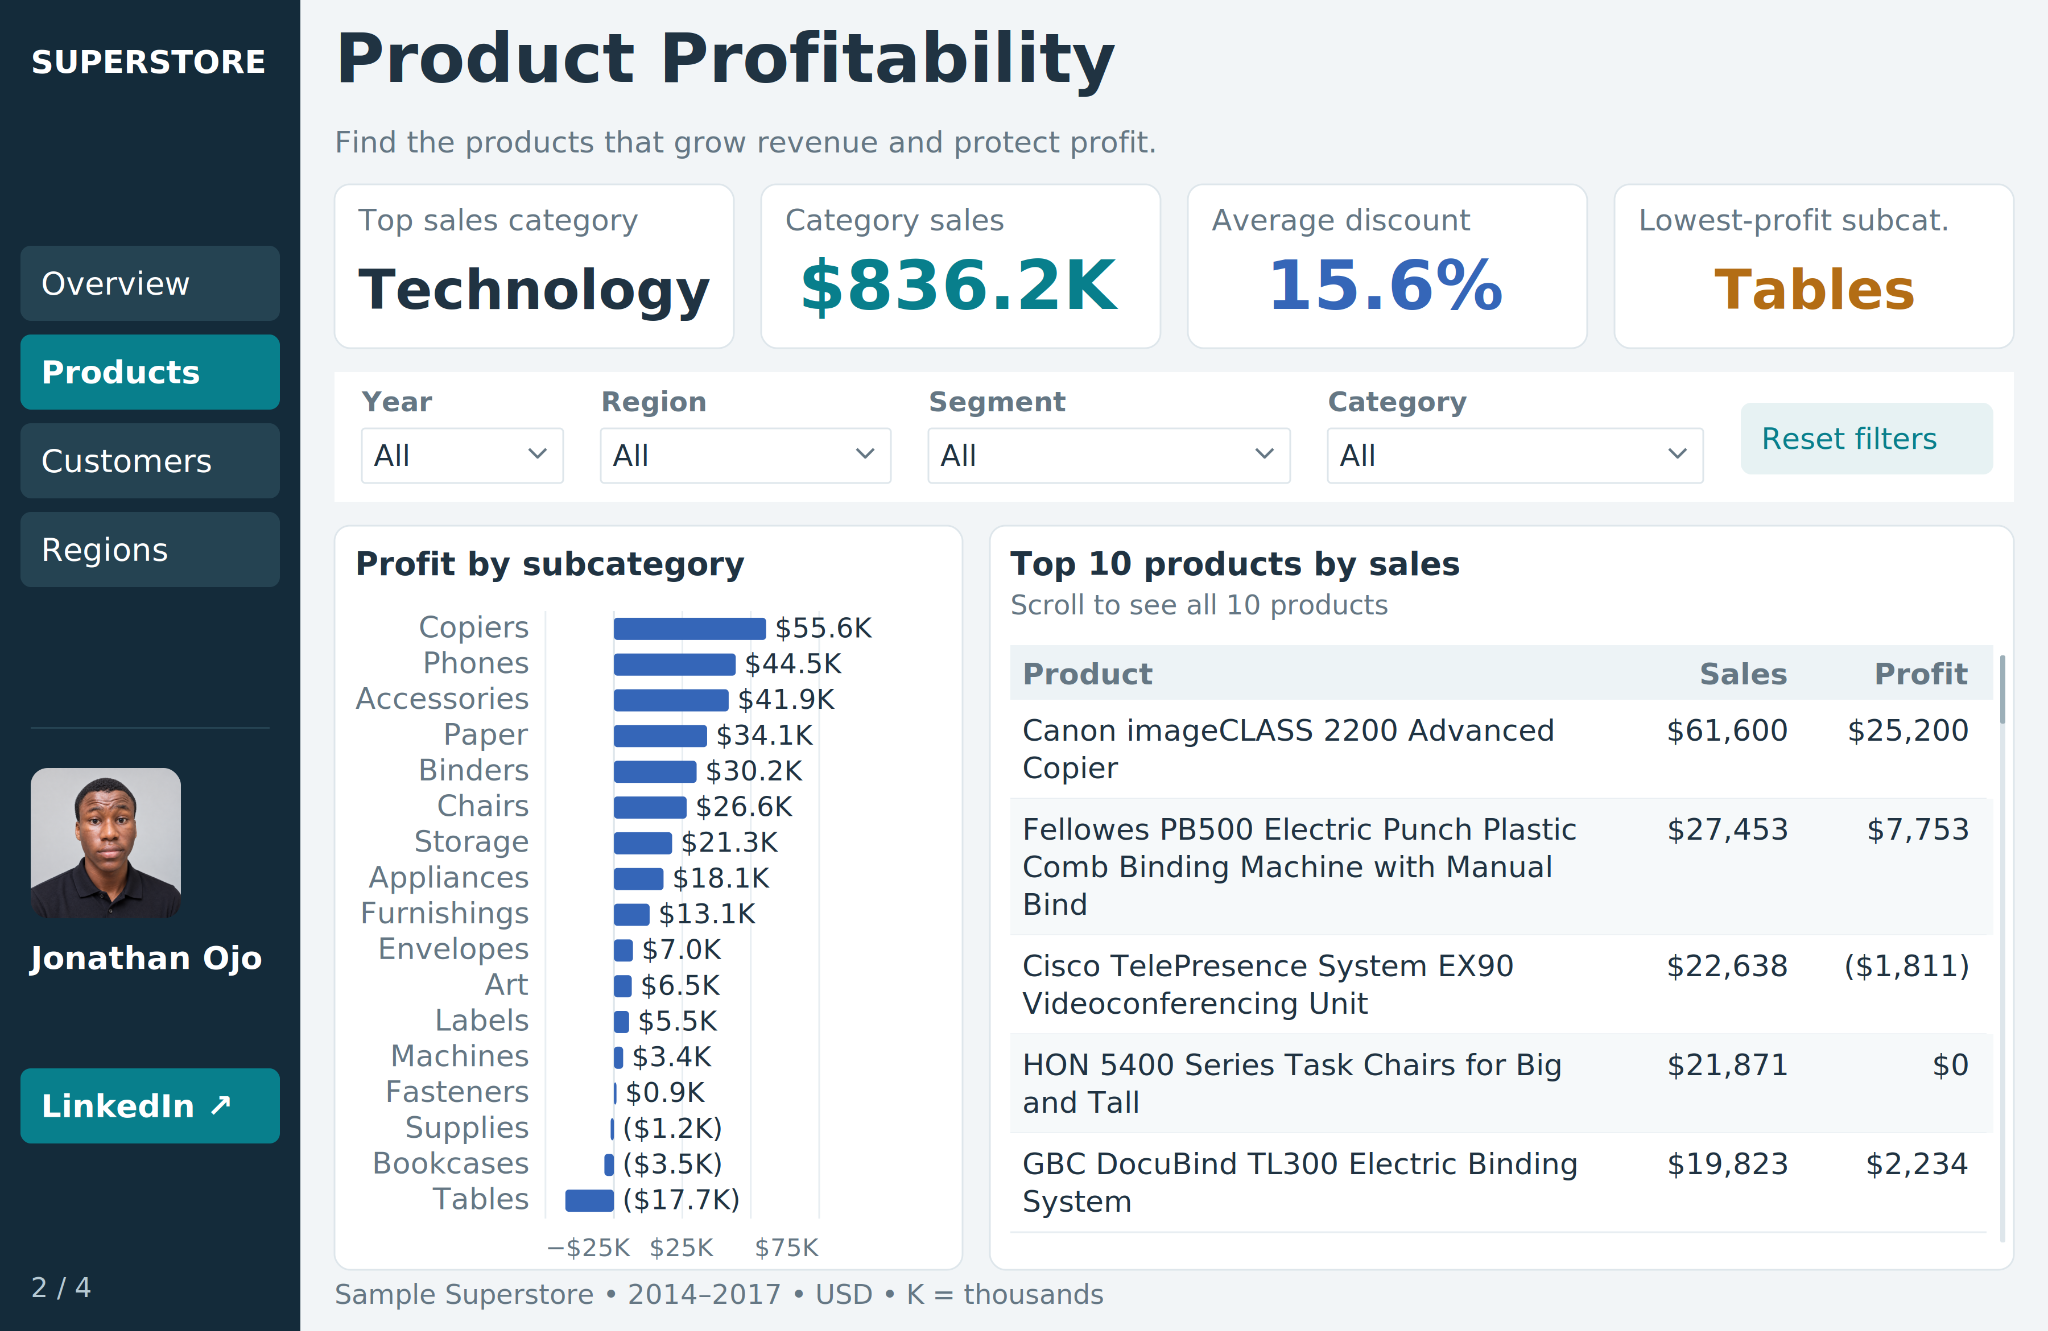

What the dashboard file says about the page in this screenshot:
{"tool":"powerbi","page":{"name":"Product Profitability","canvas":[1200,780],"ordinal":1},"visuals":[{"type":"shape","box":[0,0,176,780],"z":0},{"type":"textbox","box":[18,24,144,38],"z":1000},{"type":"actionButton","box":[12,144,152,44],"z":4000},{"type":"actionButton","box":[12,196,152,44],"z":5000},{"type":"actionButton","box":[12,248,152,44],"z":6000},{"type":"actionButton","box":[12,300,152,44],"z":7000},{"type":"shape","box":[18,426,140,1],"z":8000},{"type":"image","box":[18,450,88,88],"z":9000},{"type":"textbox","box":[18,549,150,34],"z":10000},{"type":"actionButton","box":[12,626,152,44],"z":12000},{"type":"textbox","box":[18,744,140,30],"z":14000},{"type":"textbox","box":[196,8,984,62],"z":15000},{"type":"textbox","box":[196,72,984,32],"z":16000},{"type":"shape","box":[196,218,984,76],"z":17000},{"type":"slicer","title":"Year","fields":{"Values":["DateTable.Year"]},"box":[208,222,126,68],"z":18000},{"type":"slicer","title":"Region","fields":{"Values":["Sample-Superstore.Region"]},"box":[348,222,178,68],"z":19000},{"type":"slicer","title":"Segment","fields":{"Values":["Sample-Superstore.Segment"]},"box":[540,222,220,68],"z":20000},{"type":"slicer","title":"Category","fields":{"Values":["Sample-Superstore.Category"]},"box":[774,222,228,68],"z":21000},{"type":"actionButton","box":[1020,236,148,42],"z":22000},{"type":"textbox","box":[196,748,984,30],"z":23000},{"type":"card","title":"Top sales category","fields":{"Values":["Sample-Superstore.Top Category"]},"box":[196,108,234,96],"z":24000},{"type":"card","title":"Category sales","fields":{"Values":["Sample-Superstore.Top Category Sales"]},"box":[446,108,234,96],"z":25000},{"type":"card","title":"Average discount","fields":{"Values":["Sample-Superstore.Avg Discount"]},"box":[696,108,234,96],"z":26000},{"type":"card","title":"Lowest-profit subcat.","fields":{"Values":["Sample-Superstore.Worst Subcategory"]},"box":[946,108,234,96],"z":27000},{"type":"clusteredBarChart","title":"Profit by subcategory","fields":{"Category":["Sample-Superstore.Sub-Category"],"Y":["Sample-Superstore.Total Profit"]},"box":[196,308,368,436],"z":28000},{"type":"tableEx","title":"Top 10 products by sales","fields":{"Values":["Sample-Superstore.Product Name","Sample-Superstore.Total Sales","Sample-Superstore.Total Profit"]},"box":[580,308,600,436],"z":29000}]}

Visuals, with their boxes in screenshot pixels (x1, y1, x2, y2), scaled from the page's 1200x780 canvas onto the 2048x1331 screenshot:
shape: [0,0,300,1330]
textbox: [31,41,276,106]
actionButton: [20,246,280,321]
actionButton: [20,334,280,410]
actionButton: [20,423,280,498]
actionButton: [20,512,280,587]
shape: [31,727,270,729]
image: [31,768,181,918]
textbox: [31,937,287,995]
actionButton: [20,1068,280,1143]
textbox: [31,1270,270,1321]
textbox: [335,14,2014,119]
textbox: [335,123,2014,177]
shape: [335,372,2014,502]
"Year" slicer: [355,379,570,495]
"Region" slicer: [594,379,898,495]
"Segment" slicer: [922,379,1297,495]
"Category" slicer: [1321,379,1710,495]
actionButton: [1741,403,1993,474]
textbox: [335,1276,2014,1328]
"Top sales category" card: [335,184,734,348]
"Category sales" card: [761,184,1161,348]
"Average discount" card: [1188,184,1587,348]
"Lowest-profit subcat." card: [1615,184,2014,348]
"Profit by subcategory" clusteredBarChart: [335,526,963,1270]
"Top 10 products by sales" tableEx: [990,526,2014,1270]
